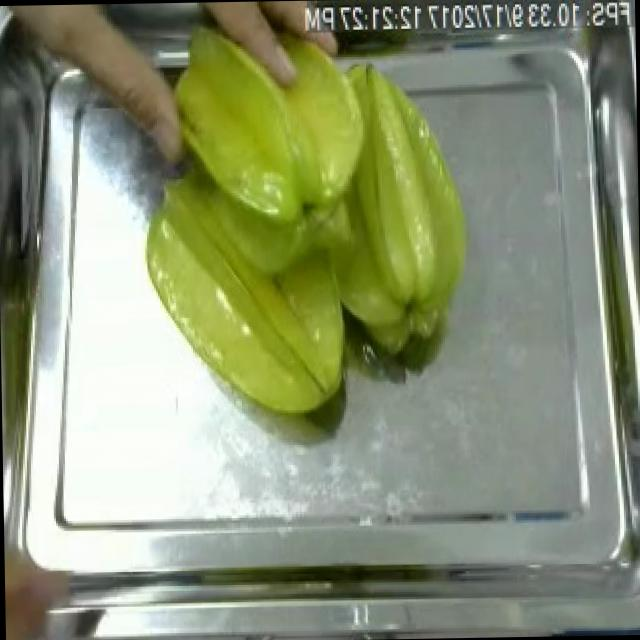fruit: (122, 57, 486, 433), (154, 7, 480, 236), (129, 153, 364, 430)
